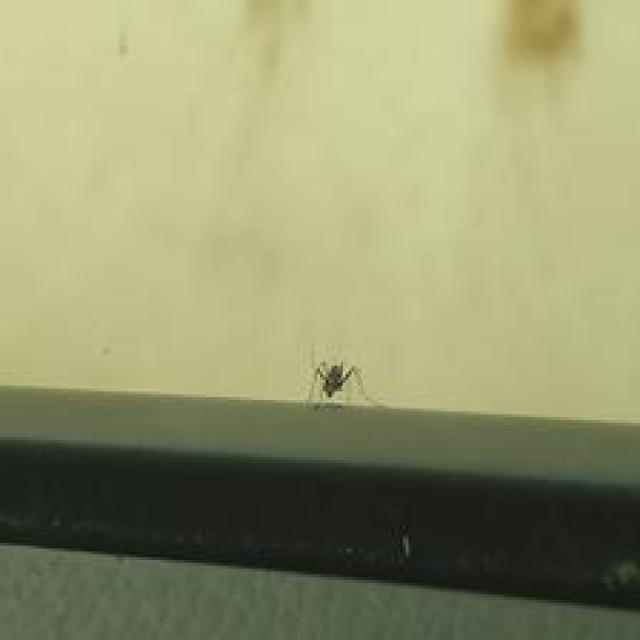Aedes albopictus: (300, 343, 380, 411)
